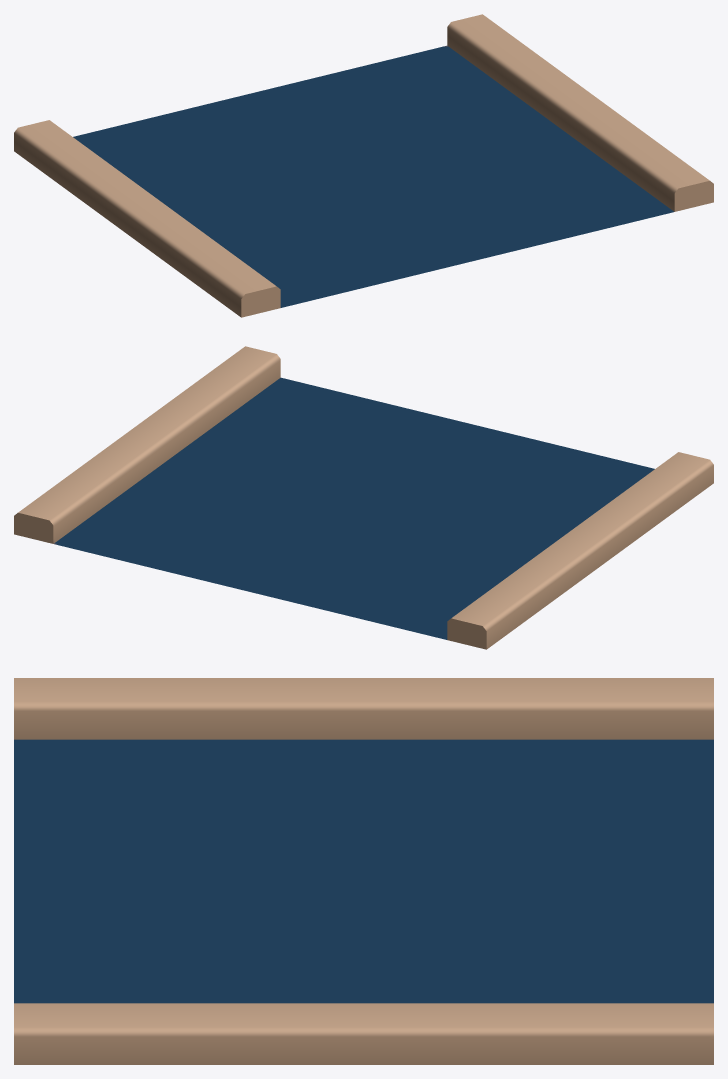
File: PokemonMonster_Landing_RoadStraight.fbx
The picture shows the model from 3 angles, top to bottom: view 1: azimuth 30°, elevation 25°; view 2: azimuth 150°, elevation 25°; view 3: azimuth 270°, elevation 25°; orthographic projection. The views are drawn at different scales.
Visible parts, largest first — view 1: Road_straight; view 2: Road_straight; view 3: Road_straight.
Part boxes in pixels (x1,y1,x2,y2): Road_straight: (14,14,713,317); Road_straight: (14,346,713,649); Road_straight: (14,678,713,1064).
Size of the model in its own units: 600 by 27.5 by 500.
1 material, 1 textured.
